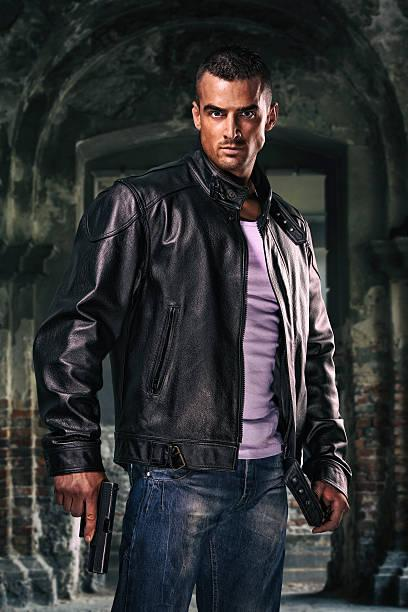weapon: (51, 469, 125, 580)
